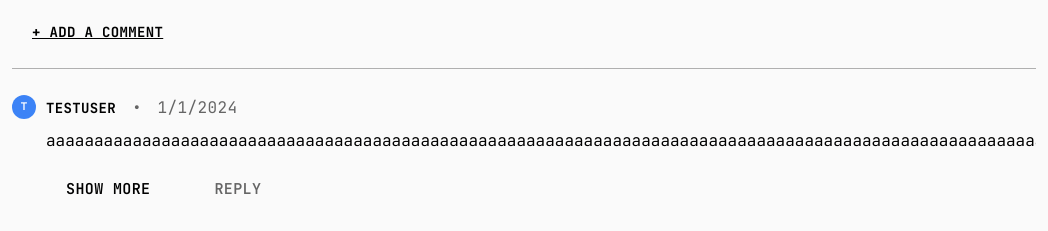
Test: CommentsList › Comment rendering › expands truncated comment when "Show more" is clicked
What coordinates should you click on to do the following:
click the button "Show more"
I would click on:
 (108, 189)
Its box is [46,169,170,210].
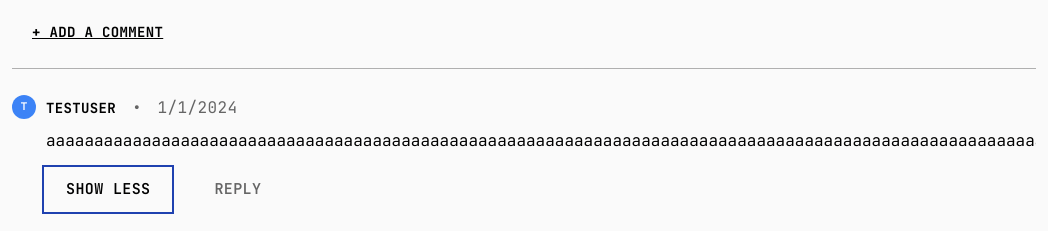
Check: the button "Show less" is shown, box [46,169,170,210]
